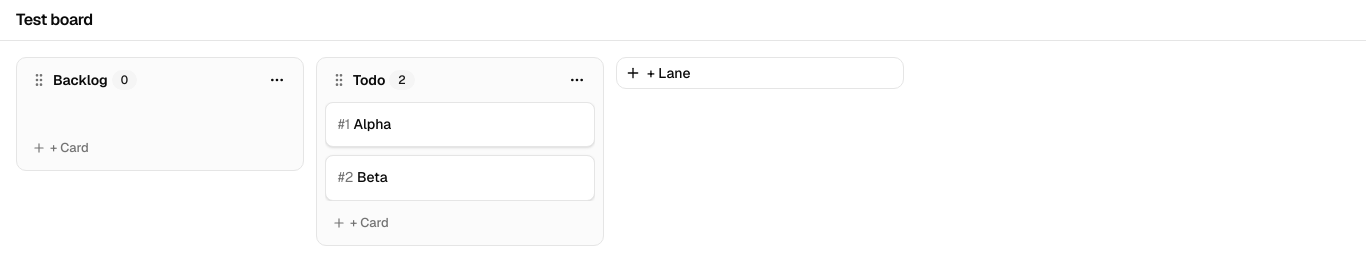
a change made by someone else appears after the next check, and later edits build on it
Check: the text "Alpha" is shown, box [354,115,391,133]
Check: the text "Beta" is shown, box [357,168,388,186]
Click the 1st button "+ Card": x=69, y=148 [25,134,295,162]
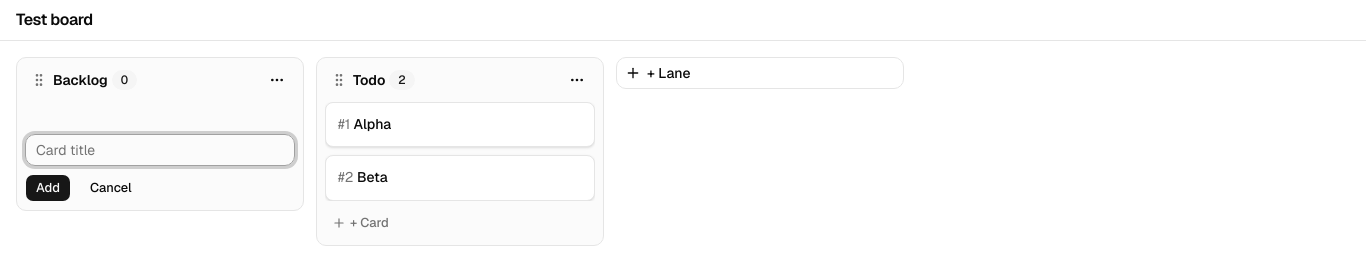
In the field labelled "Card title": x=160, y=150 [25,134,295,166], type "After refresh"
Then press Enter
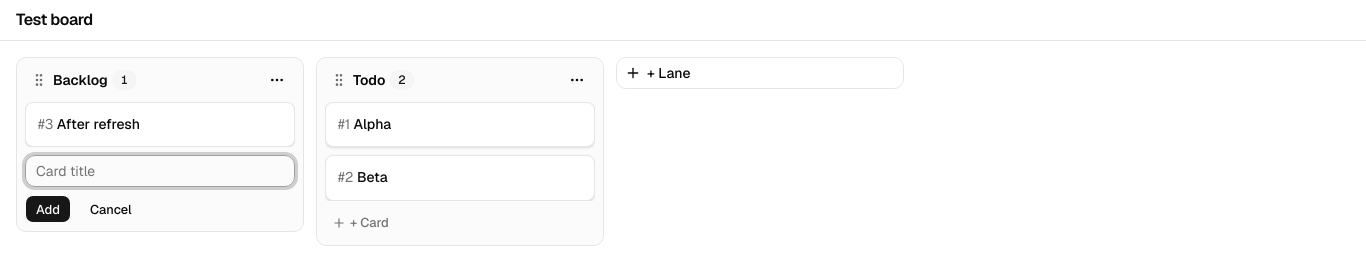
Check: the text "Beta" is shown, box [357,168,388,186]
Check: the text "After refresh" is shown, box [57,115,140,133]
